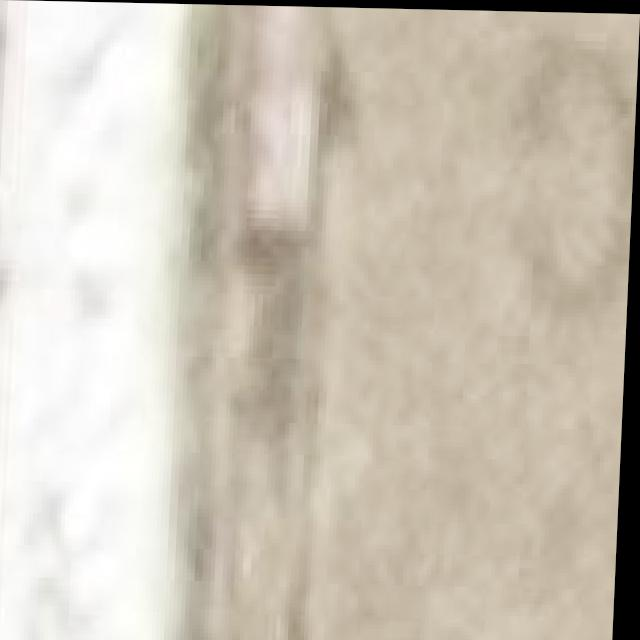inductor: (226, 4, 640, 640)
